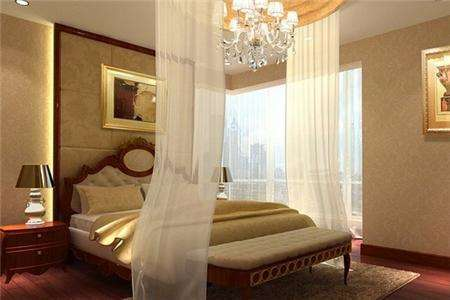床: (66, 201, 347, 299)
枕头: (79, 183, 150, 213)
灯: (214, 2, 300, 72), (12, 163, 51, 226), (208, 165, 235, 203)
